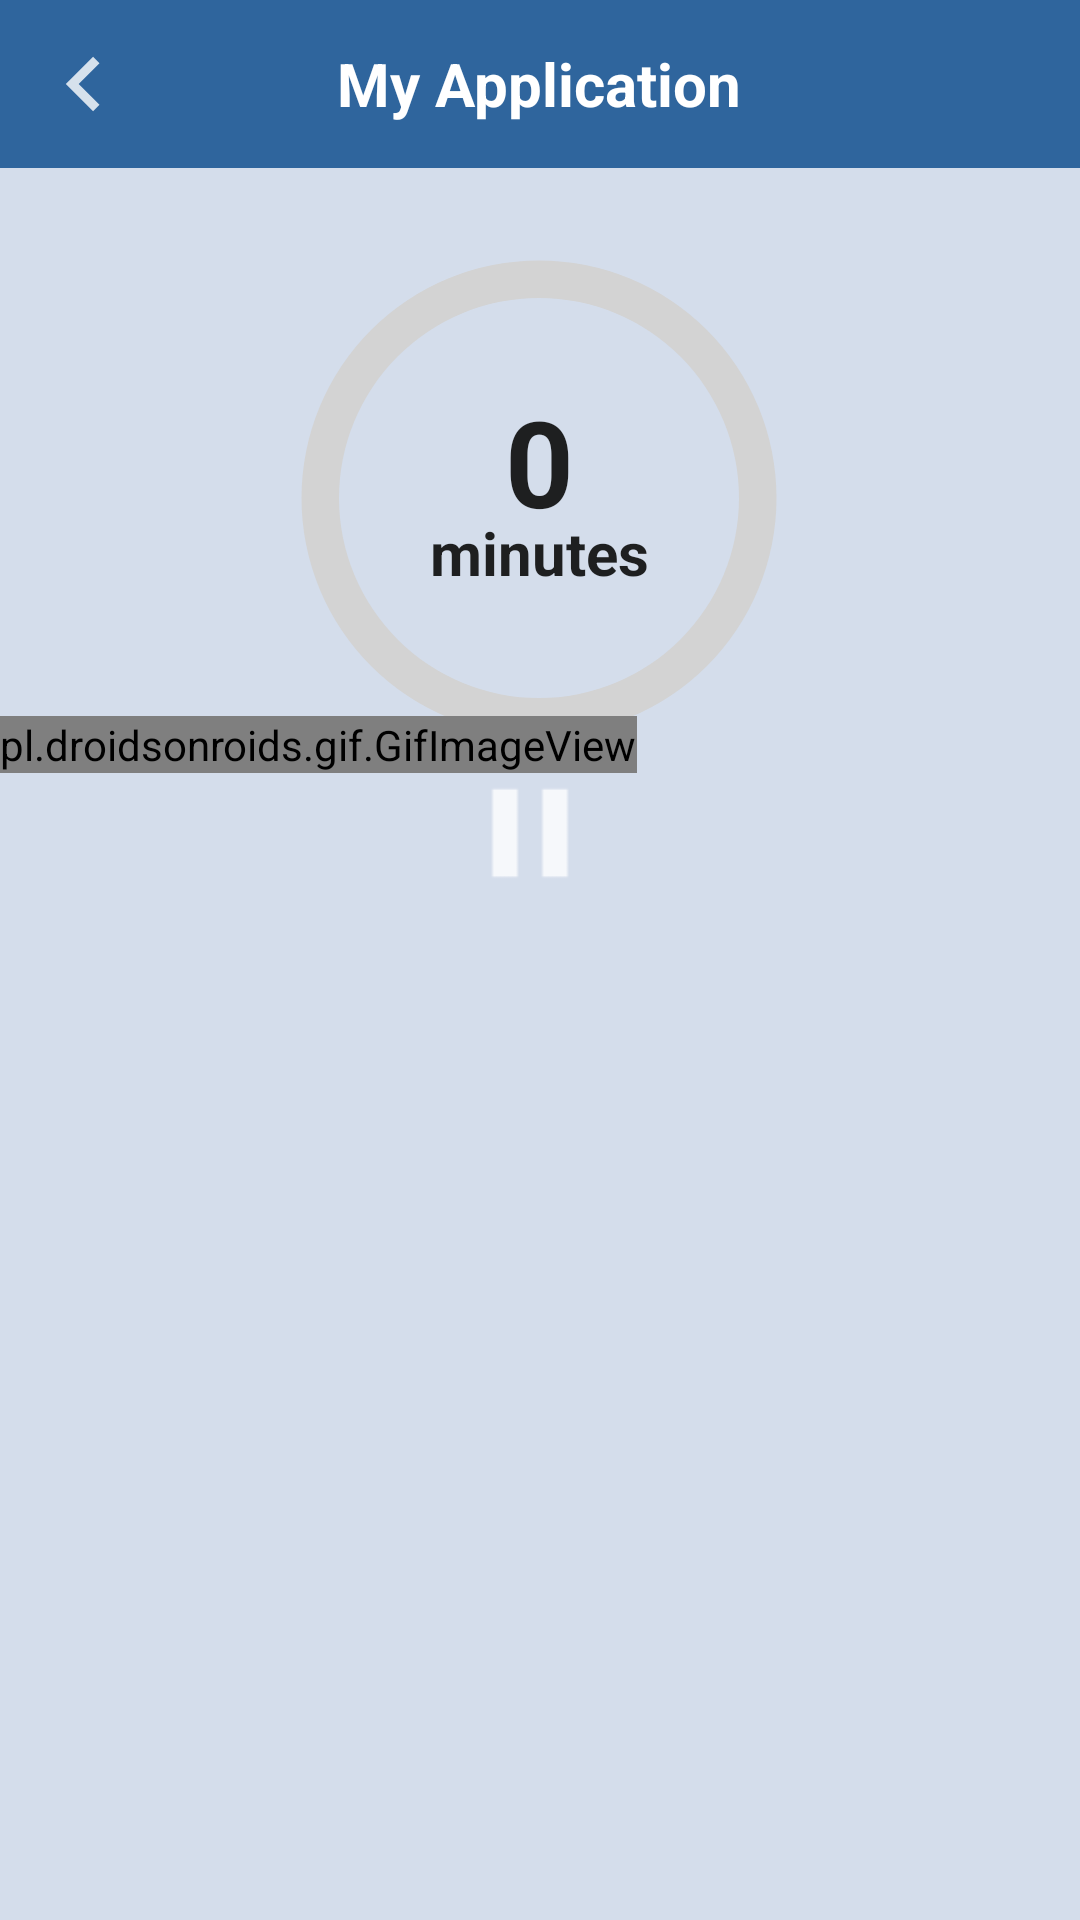

Icons on this 1080px×1920px Android screen, each with the point to tap as point (x, y):
back arrow: point (83, 84)
pause: point (530, 833)
